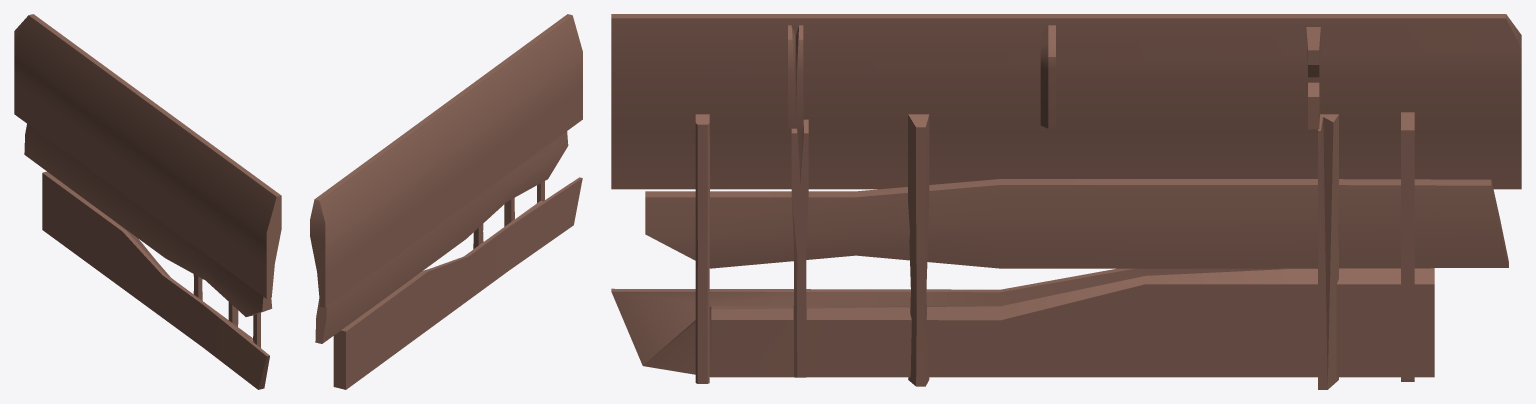
Rendered from SM_Wooden_Cart_Transport_Side.fbx.
The picture shows the model from 3 angles, left to right: view 1: azimuth 30°, elevation 25°; view 2: azimuth 150°, elevation 25°; view 3: azimuth 270°, elevation 25°; orthographic projection. The views are drawn at different scales.
Parts seen in each view (by area): view 1: Wooden_Cart_Transport_Side; view 2: Wooden_Cart_Transport_Side; view 3: Wooden_Cart_Transport_Side.
Part boxes in pixels (<box>): Wooden_Cart_Transport_Side: <box>14,14,281,389</box>; Wooden_Cart_Transport_Side: <box>310,14,582,389</box>; Wooden_Cart_Transport_Side: <box>611,14,1521,389</box>.
Bounding box in the file's own units: 7.06 × 49.51 × 113.
